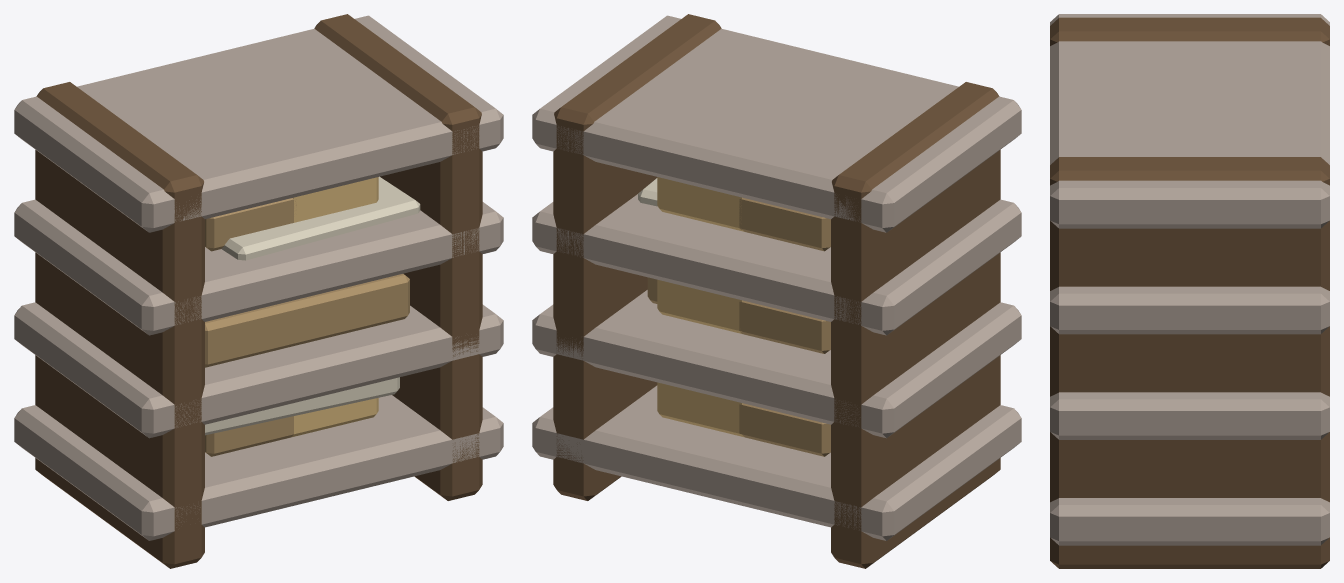
File: town_record_stack.glb
3 views of the same model, side by side, from view 1: azimuth 30°, elevation 25°; view 2: azimuth 150°, elevation 25°; view 3: azimuth 270°, elevation 25° (orthographic). The views are drawn at different scales.
Bounding box in the file's own units: 0.86 × 0.88 × 0.56.
